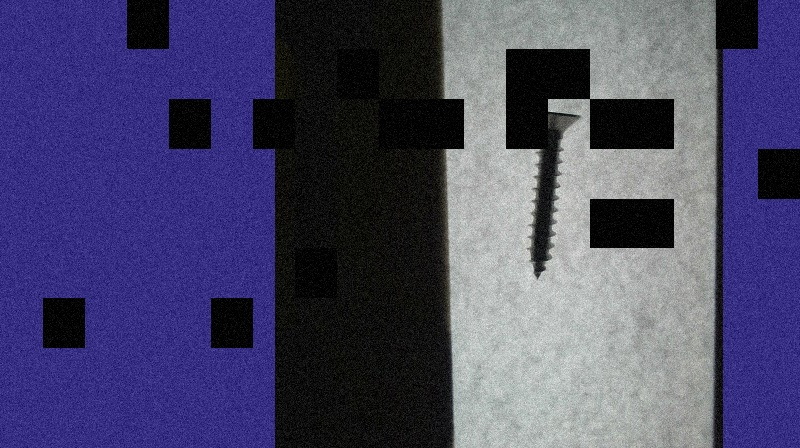S001: (521, 107, 584, 285)
